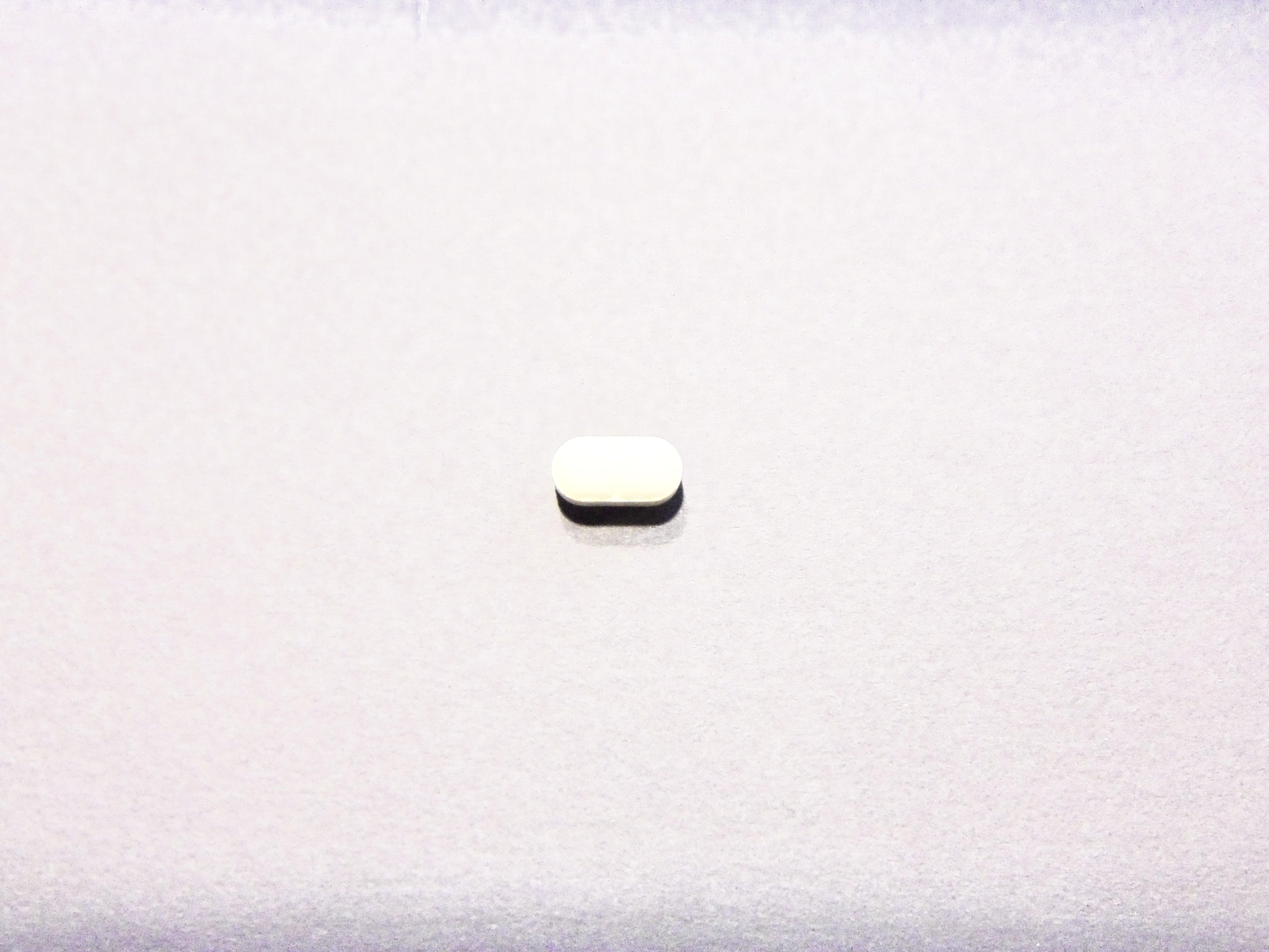Pill: (545, 429, 693, 517)
